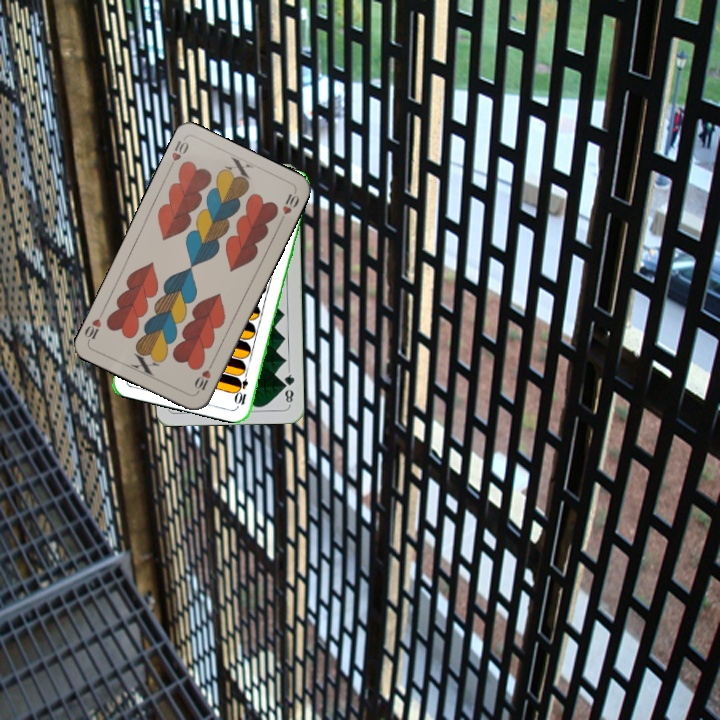E10: (233, 367, 251, 407)
G8: (279, 367, 297, 407)
H10: (164, 135, 191, 173), (190, 358, 216, 396)
